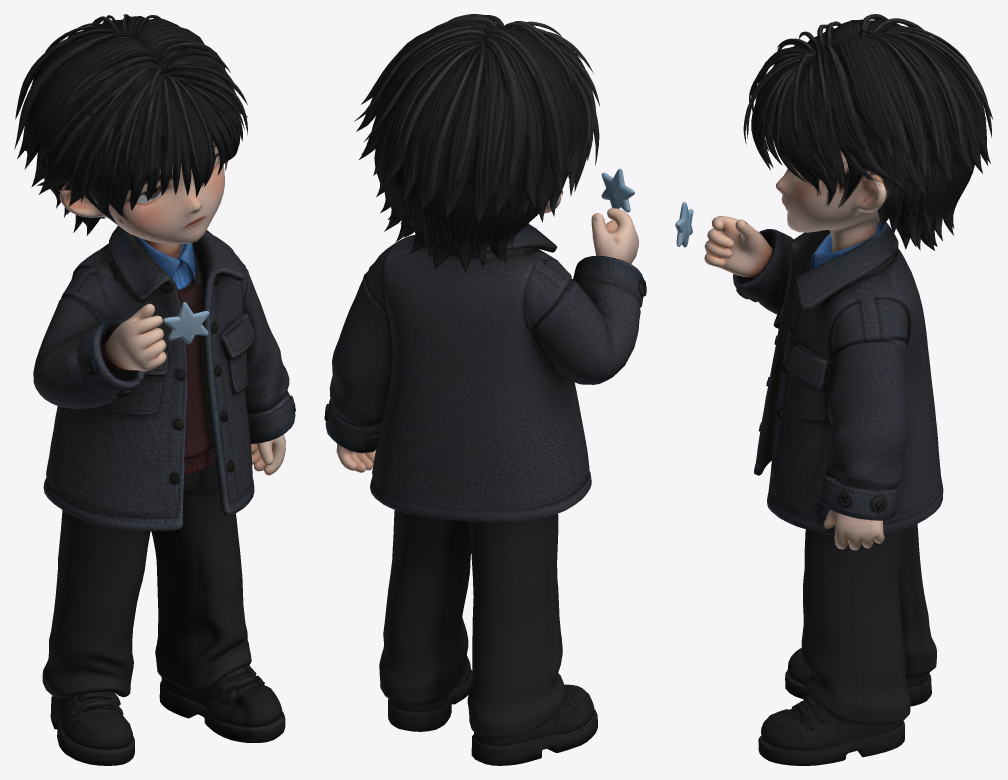
Rendered from figure-01-dreamer.glb.
3 views of the same model, side by side, from view 1: azimuth 30°, elevation 25°; view 2: azimuth 150°, elevation 25°; view 3: azimuth 270°, elevation 25° (orthographic). The views are drawn at different scales.
Parts seen in each view (by area): view 1: tripo_node_1c32a4f9; view 2: tripo_node_1c32a4f9; view 3: tripo_node_1c32a4f9.
Boxes of the visible parts, left/top/right/bottom form: tripo_node_1c32a4f9: left=14, top=14, right=295, bottom=765; tripo_node_1c32a4f9: left=324, top=14, right=646, bottom=765; tripo_node_1c32a4f9: left=675, top=14, right=993, bottom=765.
Bounding box in the file's own units: 0.4087 × 0.9995 × 0.4194.
1 material, 1 textured.
